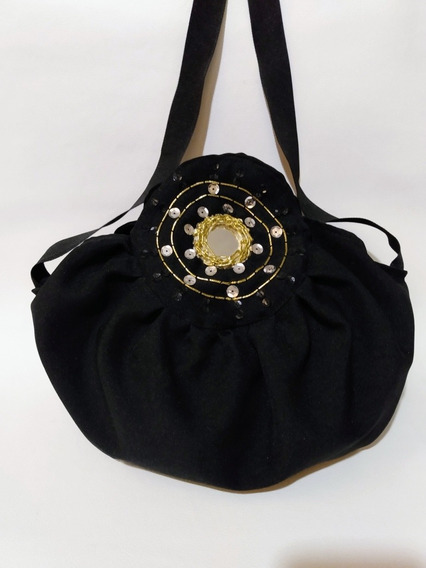cartera: (31, 2, 414, 495)
